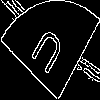U: (25, 25, 66, 84)
